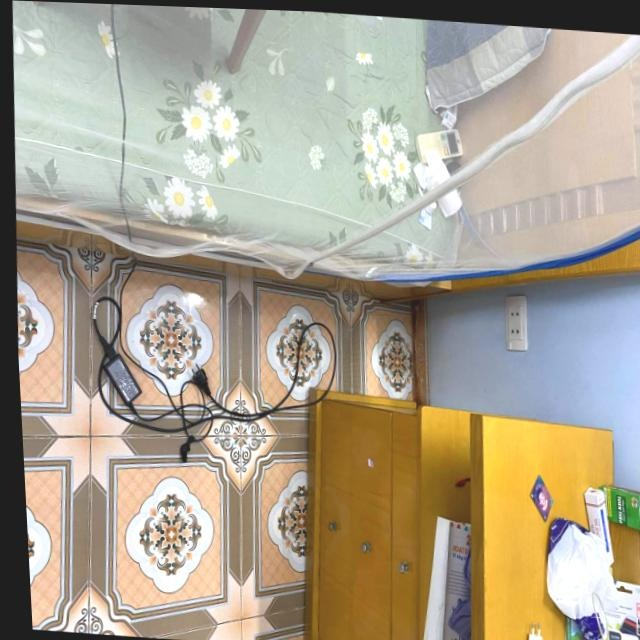outlet: (501, 292, 528, 351)
